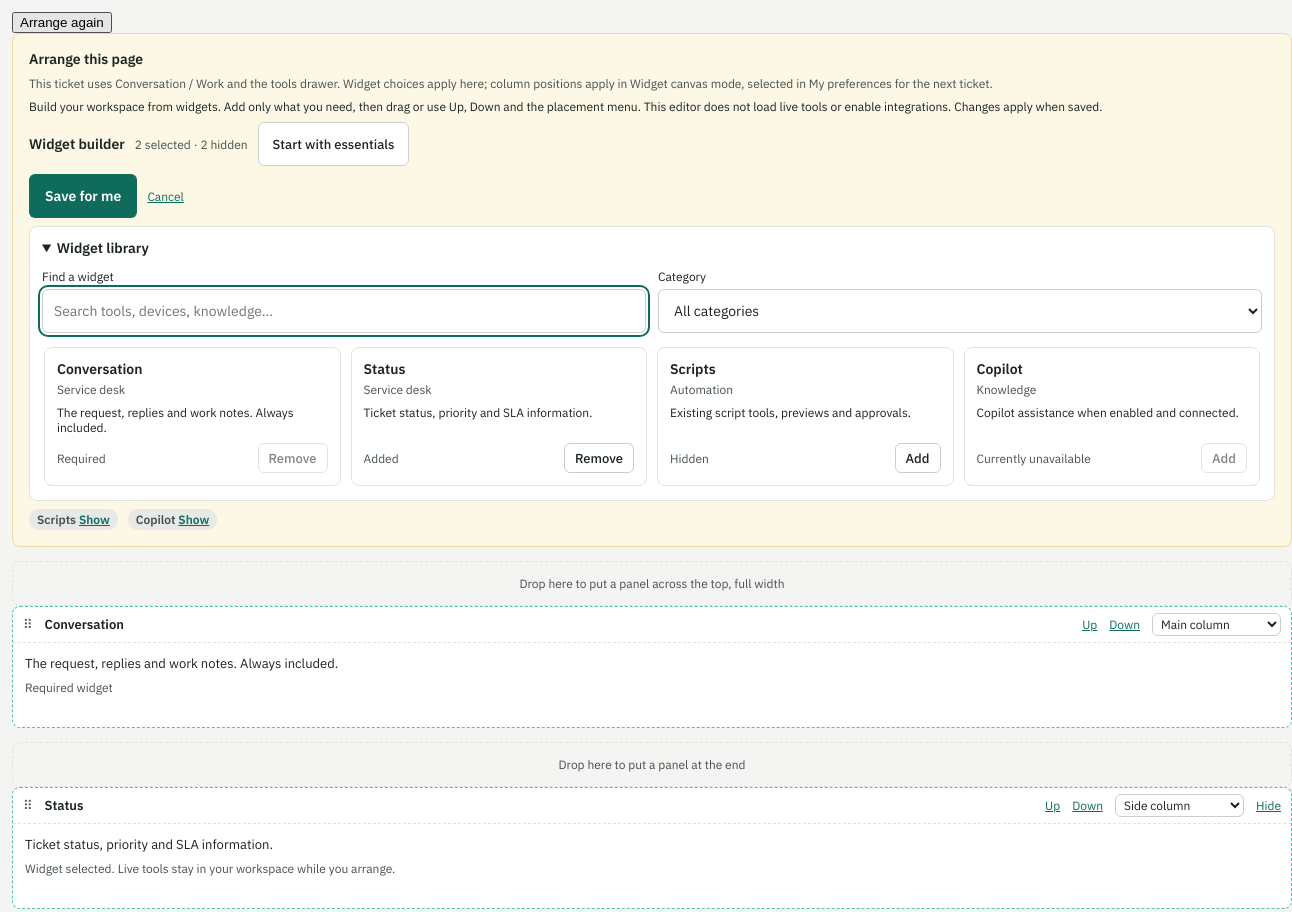
Scenario: failed saves retain widget draft and support retry; shared defaults remain admin-only
The width and height of the screenshot is (1292, 912).
Click the button with aria-label "Add Scripts widget". click: (918, 458)
box: [894,443,940,473]
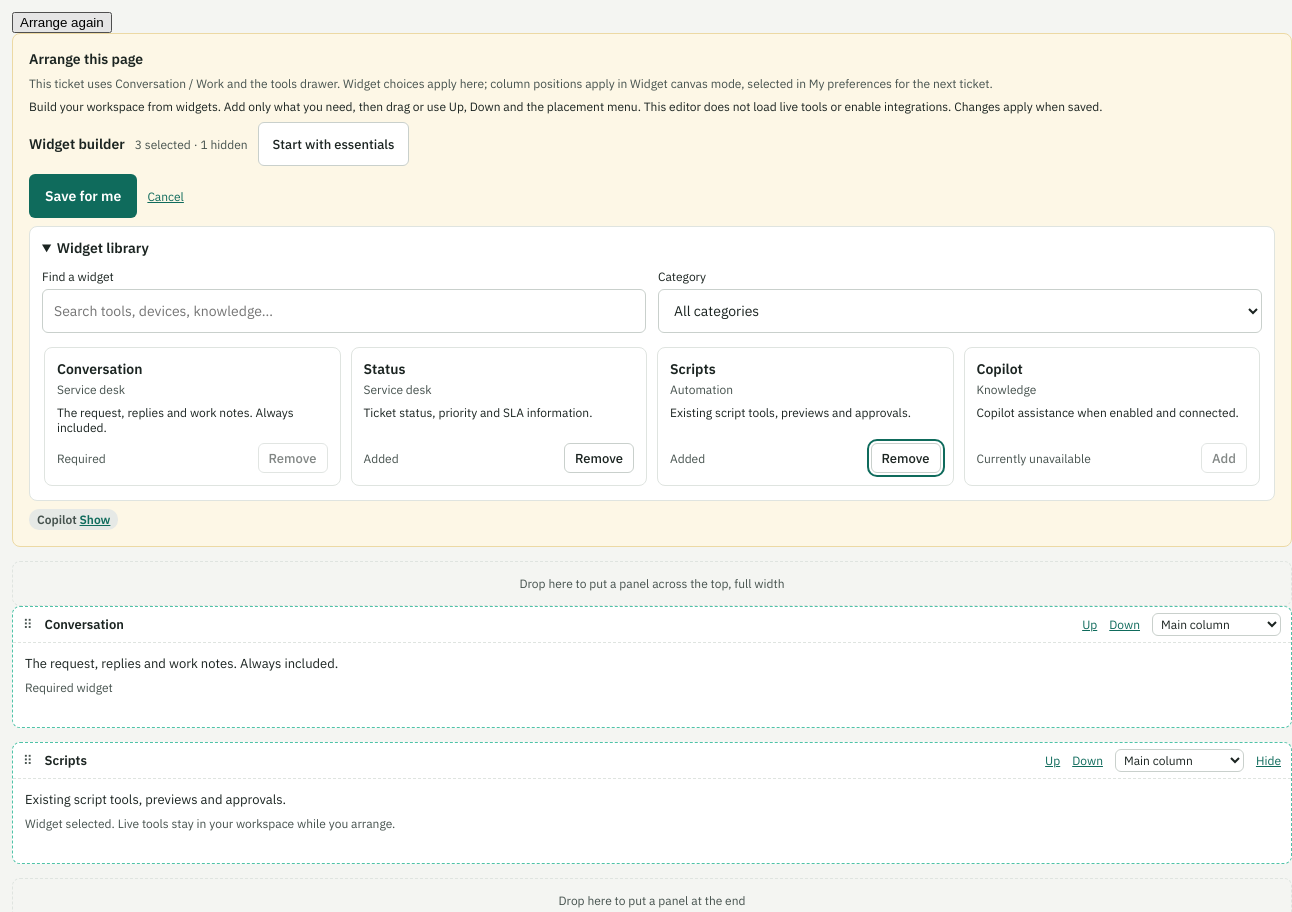
Click the button "Save for me". click: (83, 196)
box: [29,174,137,218]
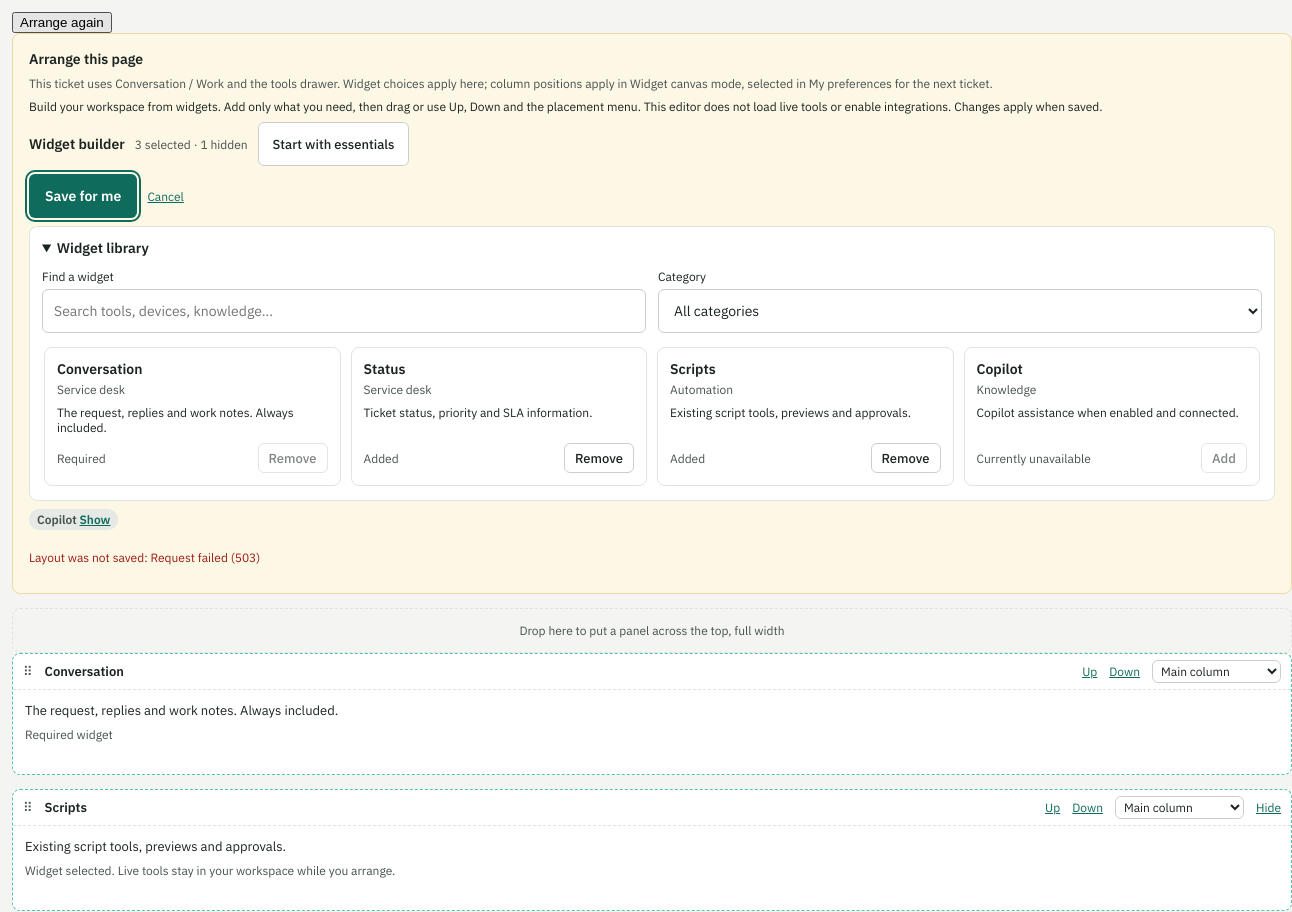
Now the element named "Panel: Scripts" is shown, box [12,789,1291,911]
Now the message shows "Layout was not saved", box [29,550,150,565]
Click the button "Save for me". click: (83, 196)
box: [29,174,137,218]
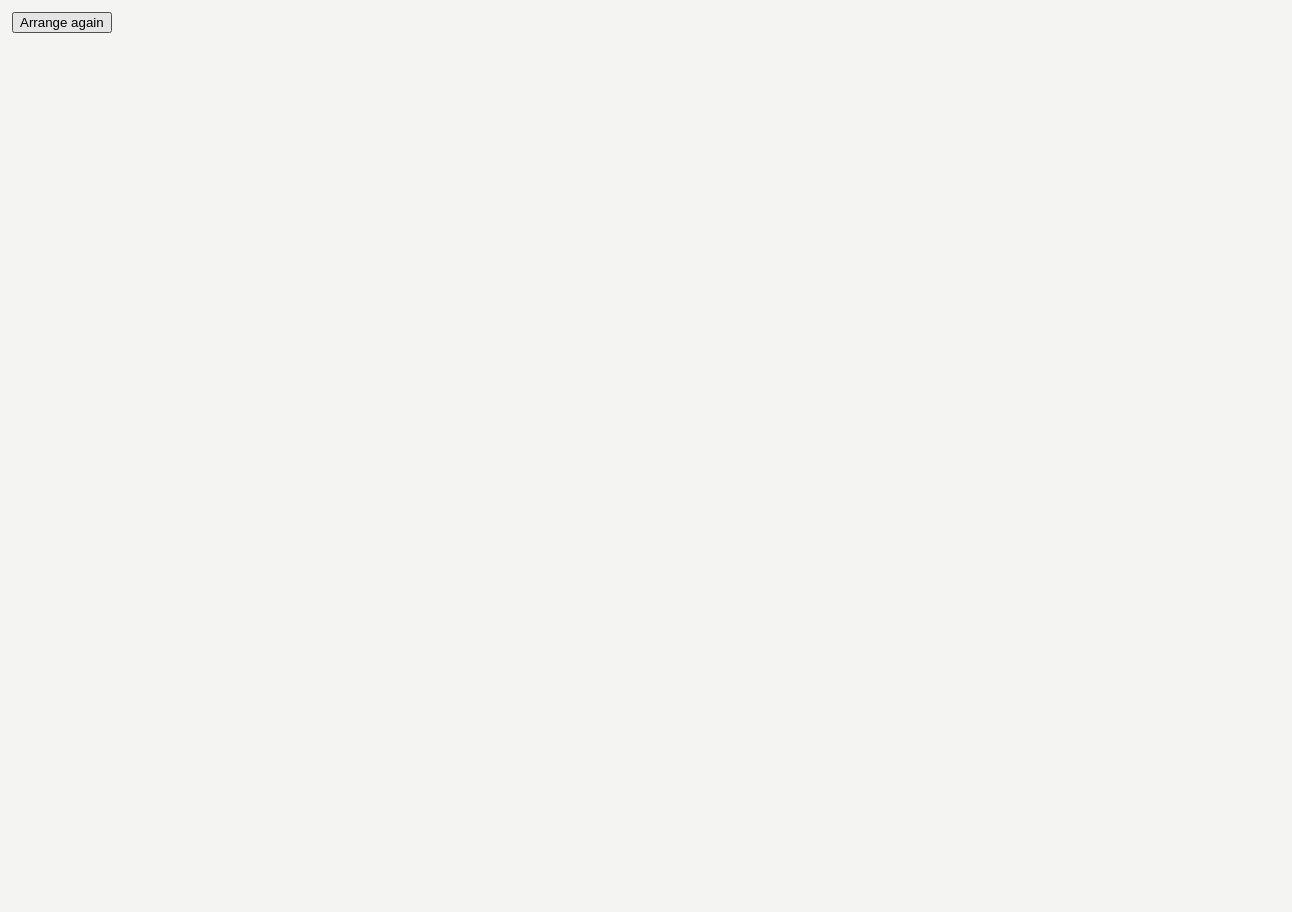
Now the text "Arrange this page" is gone
